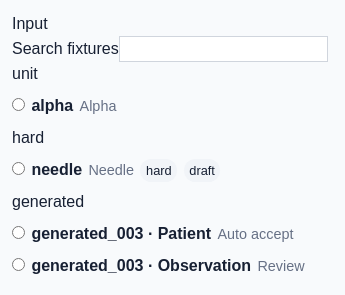
Studio decision components › groups, searches, and marks draft fixtures.
Expected: the element "unit" is shown, [12, 65, 116, 114]
Expected: the element "hard" is shown, [12, 129, 220, 182]
Type "needle" into the field labelled "Search fixtures" at {"x": 223, "y": 49}, box [119, 36, 328, 62]
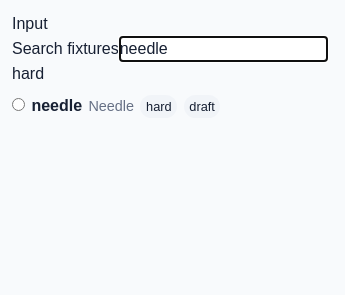
Expected: the radio button labelled "needle" is shown, [12, 98, 25, 111]
Expected: the text labelled "alpha" is gone
